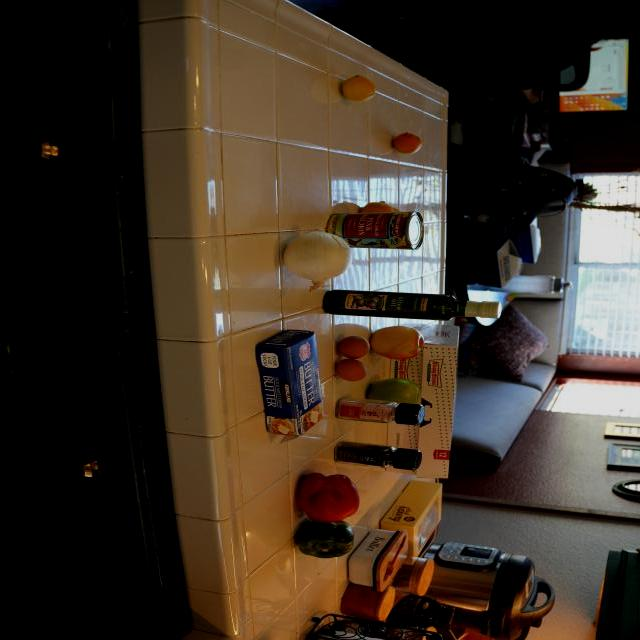bell_pepper: (290, 473, 362, 521), (291, 519, 357, 563), (329, 442, 424, 471)
egg: (335, 335, 371, 360), (334, 360, 367, 385)
onion: (278, 227, 353, 292)
